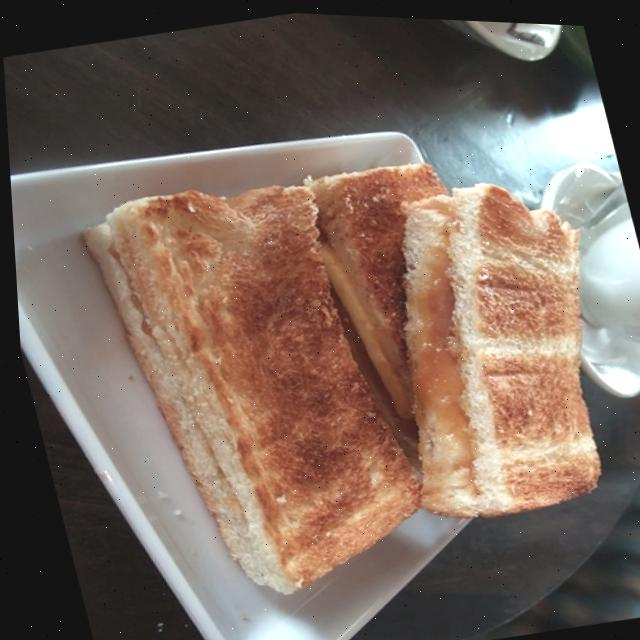面包点心: (1, 13, 640, 640)
